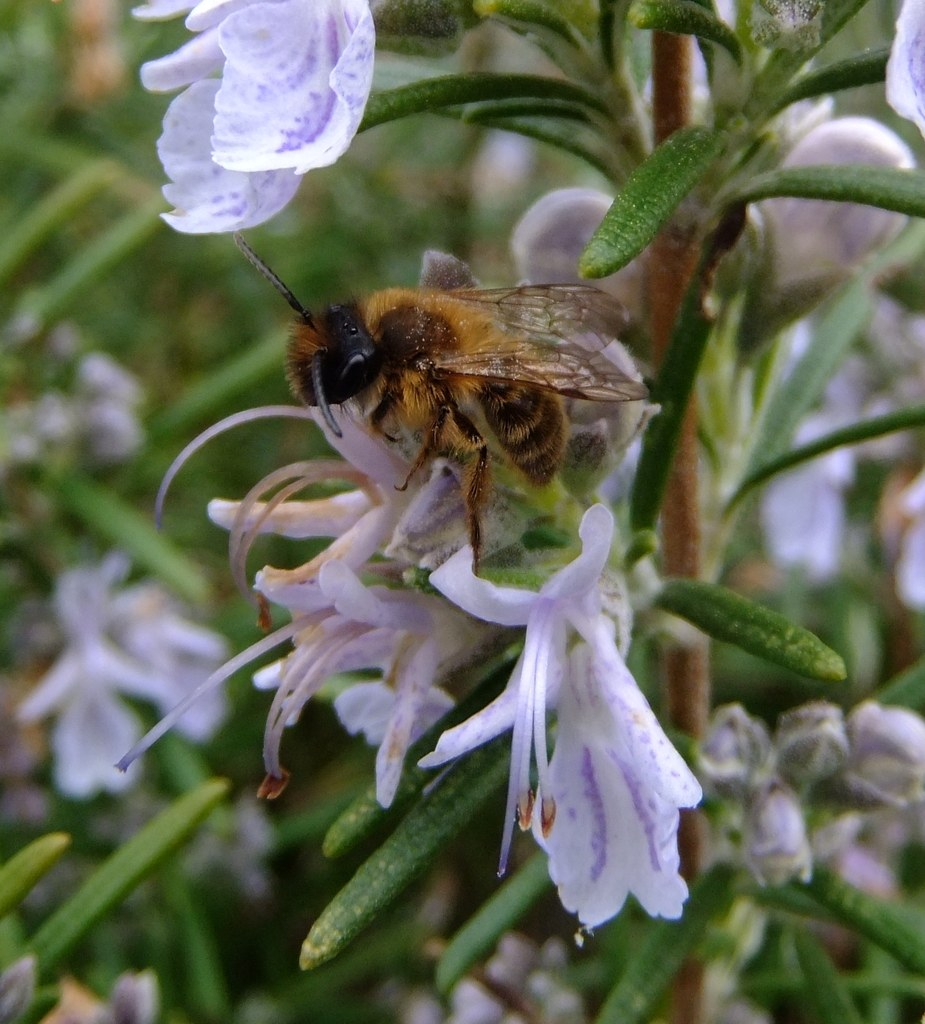bee: (238, 234, 643, 567)
